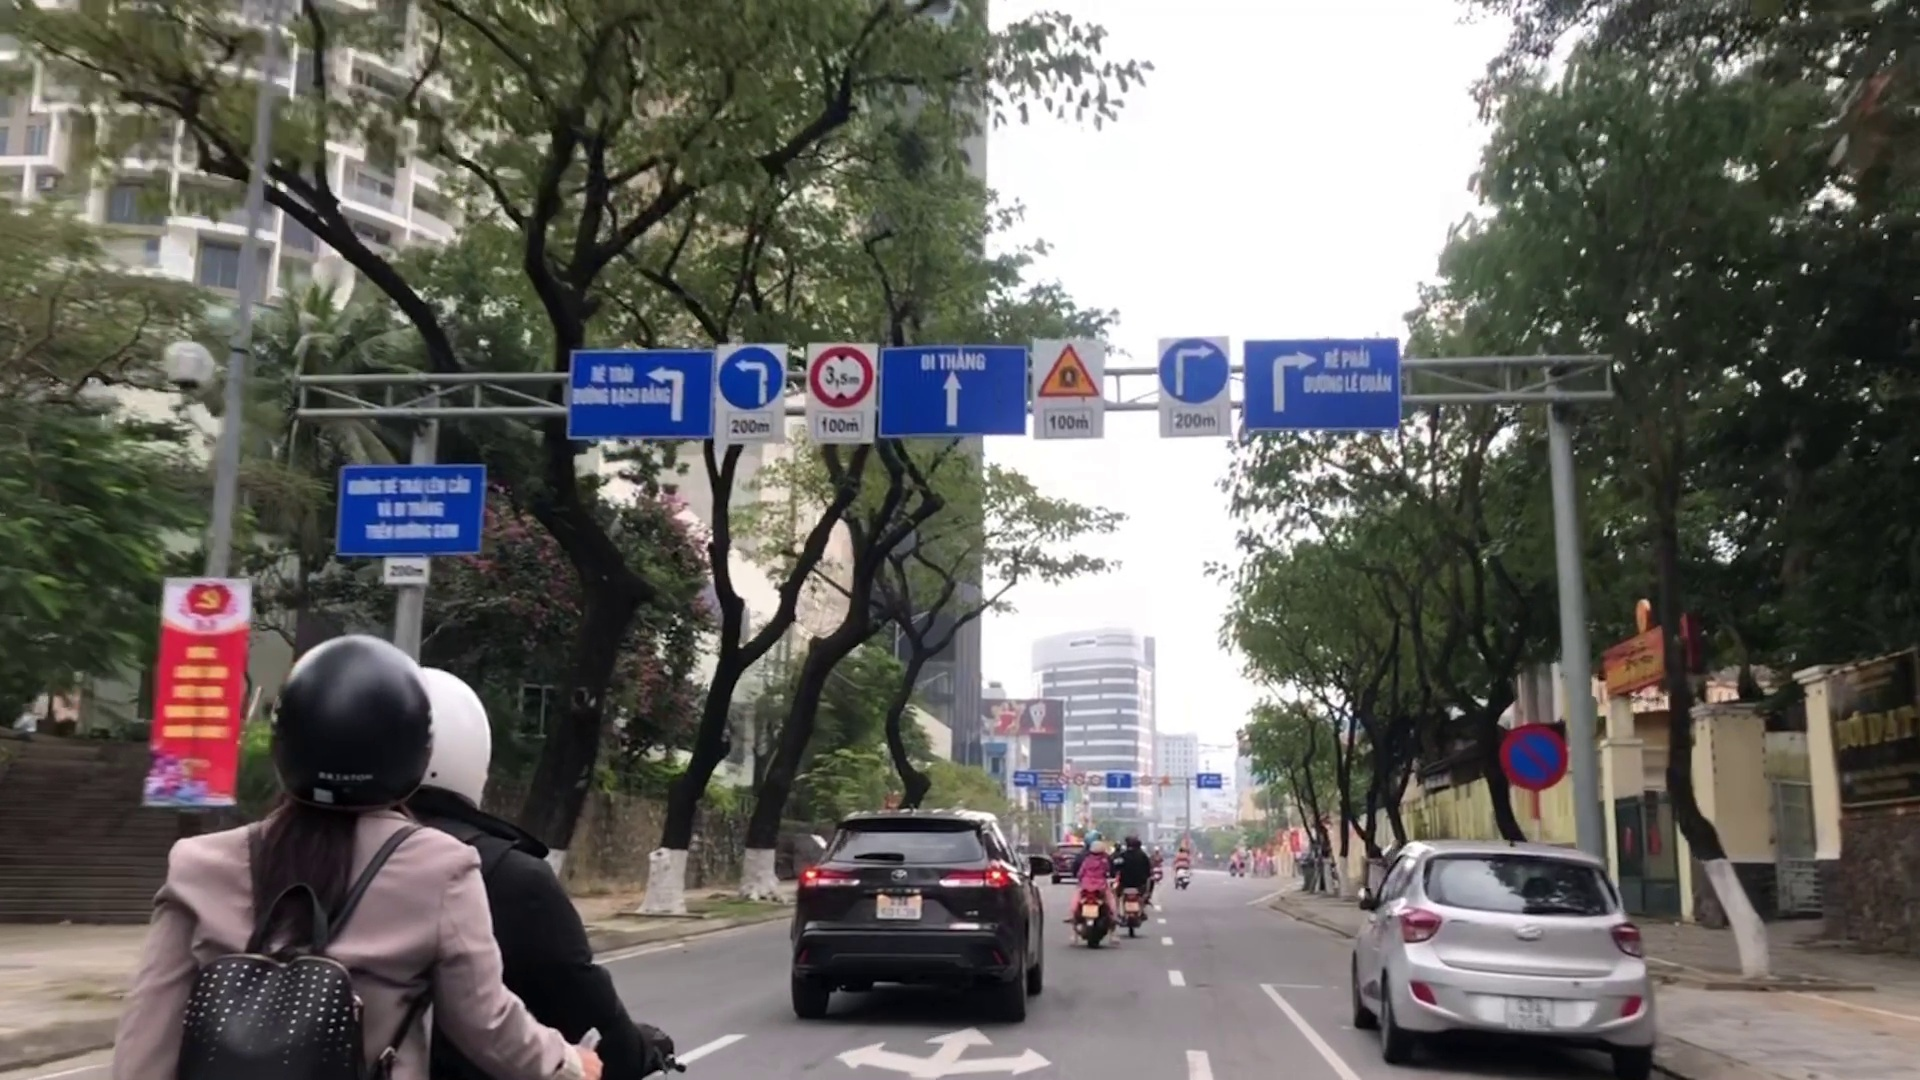Cam do xe: (1498, 723, 1573, 791)
